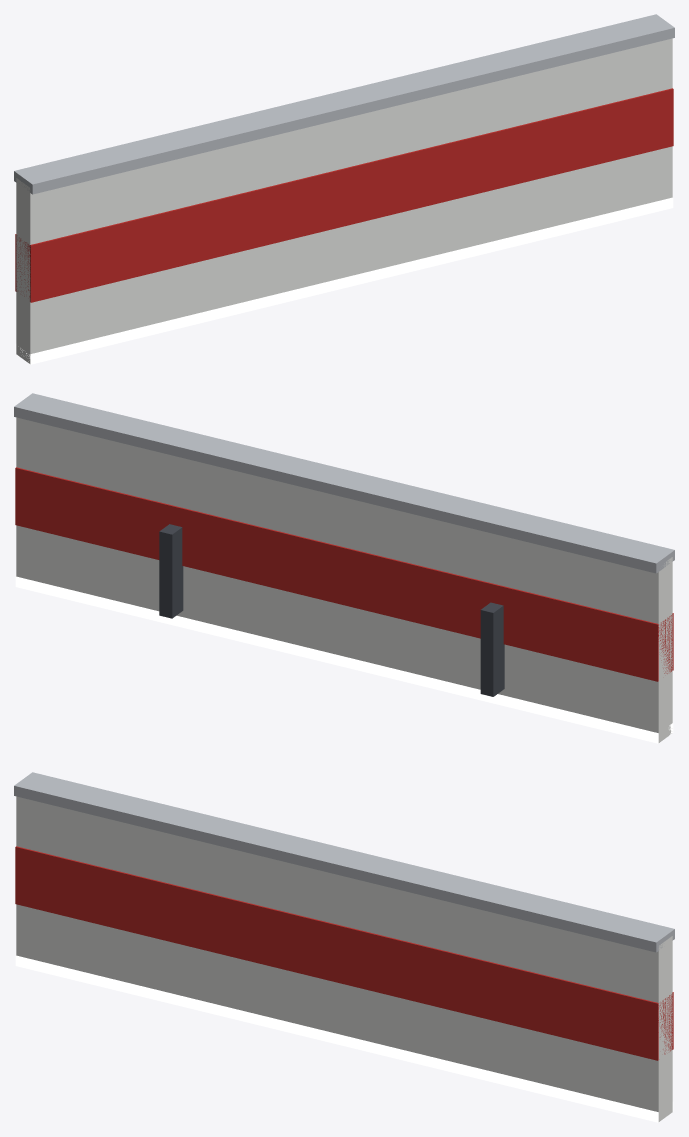
Rendered from Canopy_Fascia_Straight.glb.
The picture shows the model from 3 angles, top to bottom: view 1: azimuth 30°, elevation 25°; view 2: azimuth 150°, elevation 25°; view 3: azimuth 330°, elevation 25°; orthographic projection.
Parts seen in each view (by area): view 1: Canopy_Fascia_Straight; view 2: Canopy_Fascia_Straight; view 3: Canopy_Fascia_Straight.
Boxes of the visible parts, x1=… form: Canopy_Fascia_Straight: x1=14, y1=14, x2=674, y2=364; Canopy_Fascia_Straight: x1=14, y1=393, x2=674, y2=743; Canopy_Fascia_Straight: x1=14, y1=772, x2=674, y2=1122.
Size of the model in its own units: 4 by 1.08 by 0.295.
Materials: 1 (1 with a texture image).
